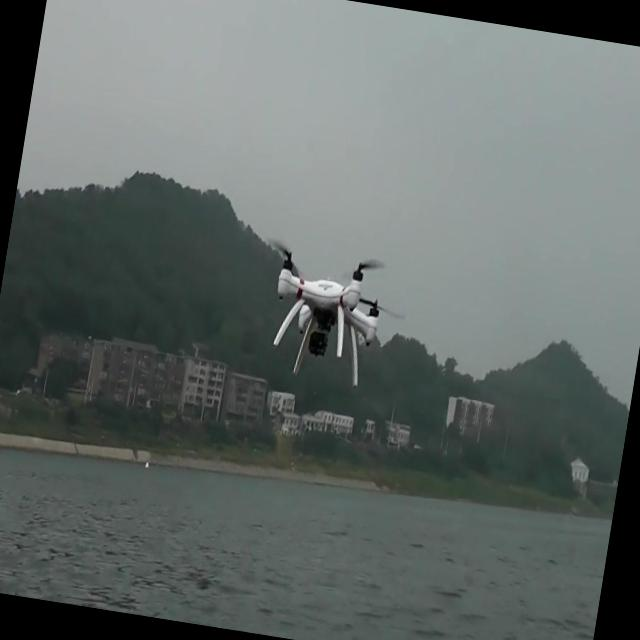drone: (253, 242, 409, 400)
